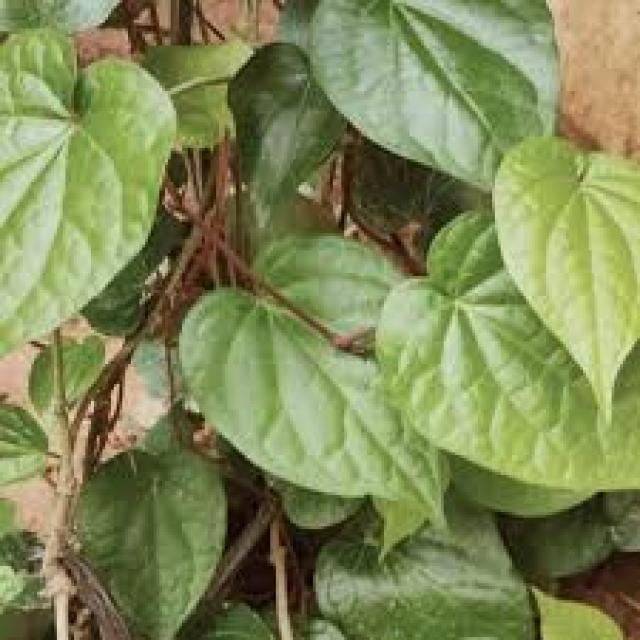healthy_leaf: (27, 36, 580, 602)
